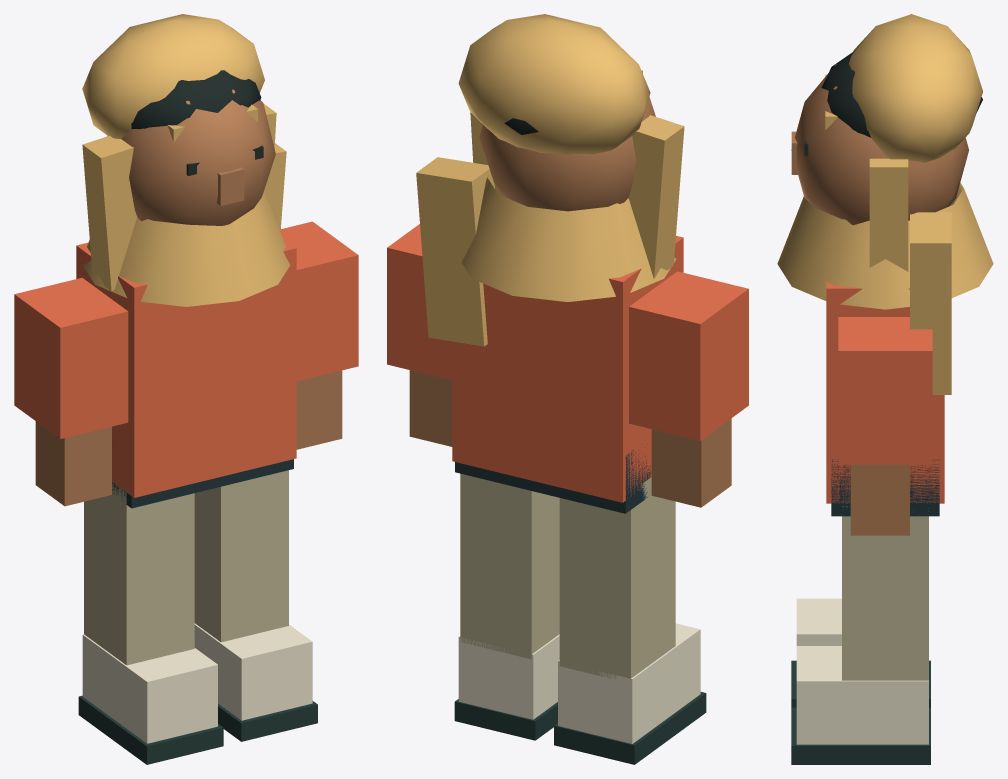
File: female-tudung-duck-luxe.glb
3 views of the same model, side by side, from view 1: azimuth 30°, elevation 25°; view 2: azimuth 150°, elevation 25°; view 3: azimuth 270°, elevation 25° (orthographic). The views are drawn at different scales.
Visible parts, largest first — view 1: female-tudung-duck-luxe, avatar-tudung, tudung-neck-wrap; view 2: female-tudung-duck-luxe, avatar-tudung, tudung-neck-wrap; view 3: female-tudung-duck-luxe, avatar-tudung, tudung-neck-wrap.
Boxes of the visible parts, x1,y1,x2,y2 form: female-tudung-duck-luxe: (14,70,358,764); avatar-tudung: (82,14,286,291); tudung-neck-wrap: (83,191,290,306); female-tudung-duck-luxe: (387,97,748,764); avatar-tudung: (416,14,684,346); tudung-neck-wrap: (461,177,676,301); female-tudung-duck-luxe: (791,51,982,764); avatar-tudung: (825,14,982,394); tudung-neck-wrap: (777,183,993,309).
Size of the model in its own units: 1.01 by 2.2 by 0.62.
